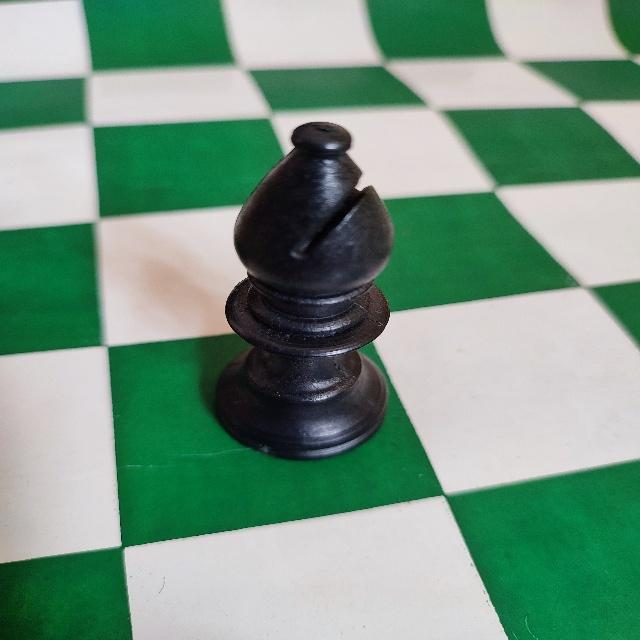Bishop: (204, 118, 400, 468)
